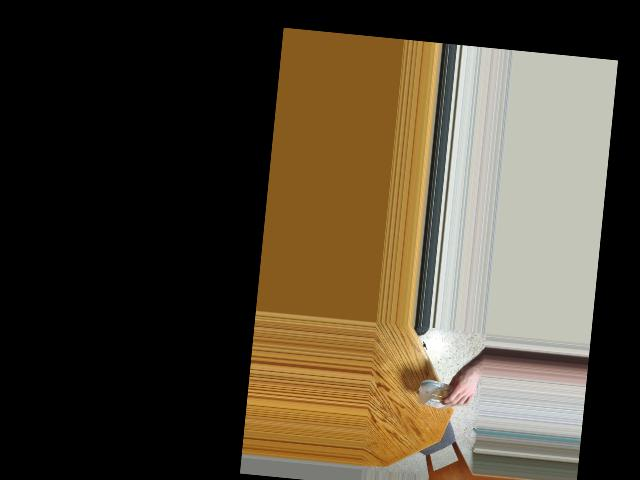cheese: (422, 375, 466, 413)
